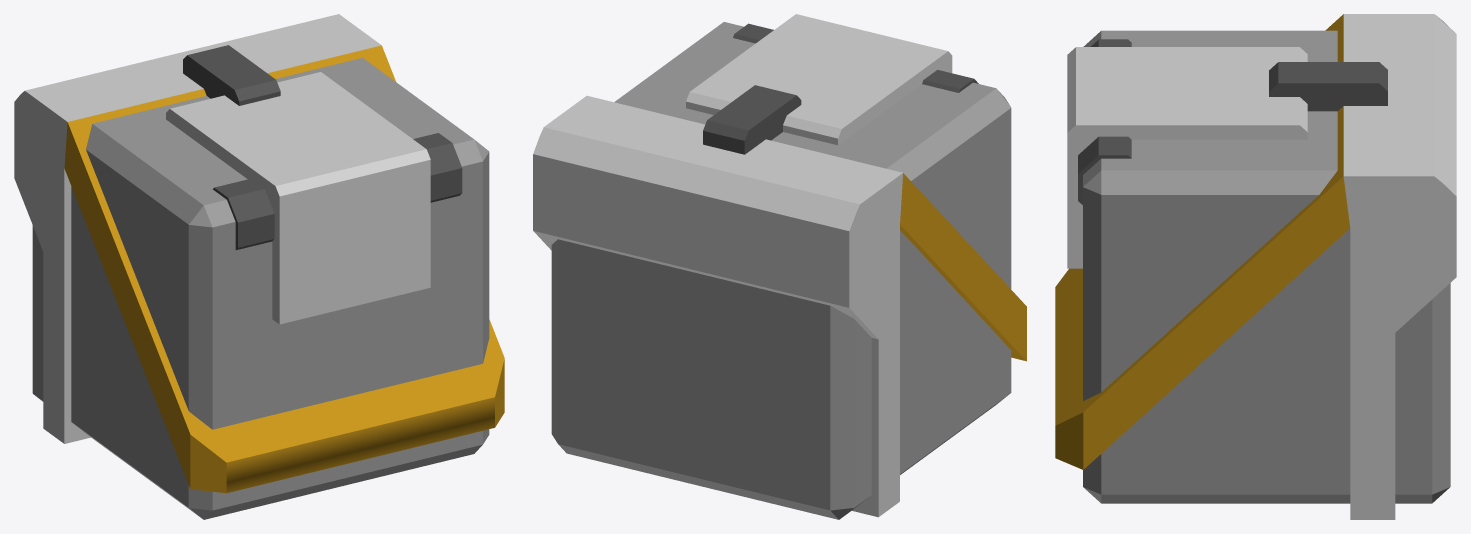
File: SM_Container_Medium_Box_2.fbx
3 renders of one model, left to right at view 1: azimuth 30°, elevation 25°; view 2: azimuth 150°, elevation 25°; view 3: azimuth 270°, elevation 25°, orthographic. The views are drawn at different scales.
Parts seen in each view (by area): view 1: SM_Container_Medium_Box_2; view 2: SM_Container_Medium_Box_2; view 3: SM_Container_Medium_Box_2.
Boxes of the visible parts, bbox=[...] form: SM_Container_Medium_Box_2: bbox=[14, 14, 504, 519]; SM_Container_Medium_Box_2: bbox=[533, 14, 1026, 519]; SM_Container_Medium_Box_2: bbox=[1055, 14, 1456, 519].
Bounding box in the file's own units: 62.72 × 65.92 × 65.49.
